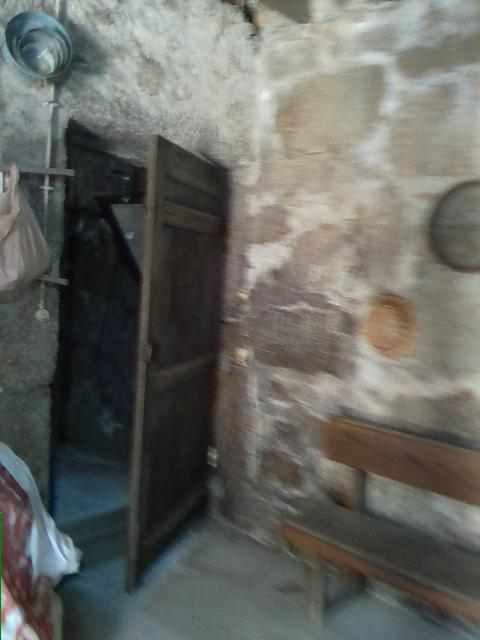semi_door: (50, 113, 231, 598)
